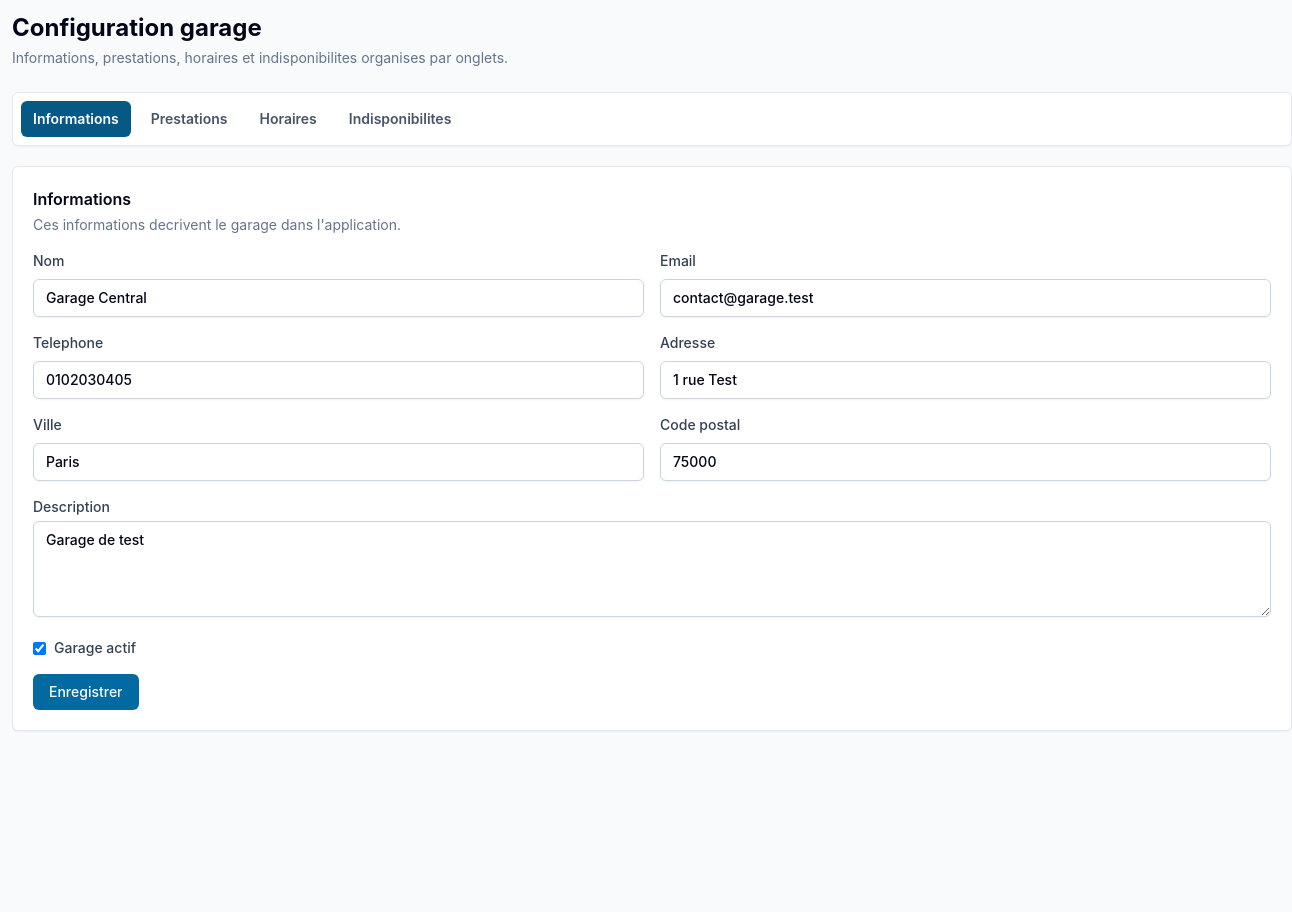
GarageSettingsPage › refuse la creation horaire si heureDebut est apres heureFin
Click the tab "Horaires" at (288, 119), box x1=248 y1=101 x2=329 y2=137
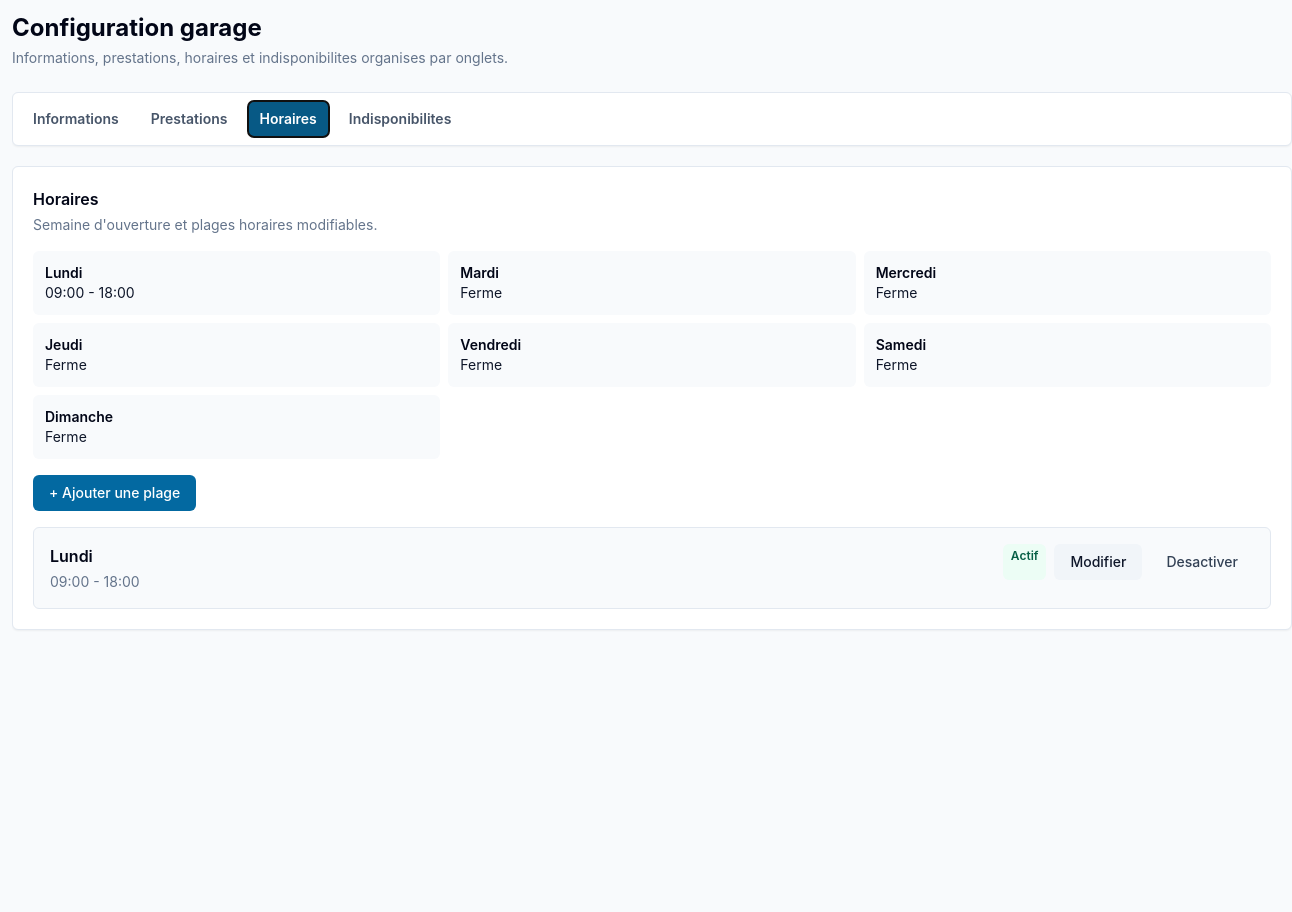
Click the button "+ Ajouter une plage" at (115, 493), box x1=33 y1=475 x2=196 y2=511
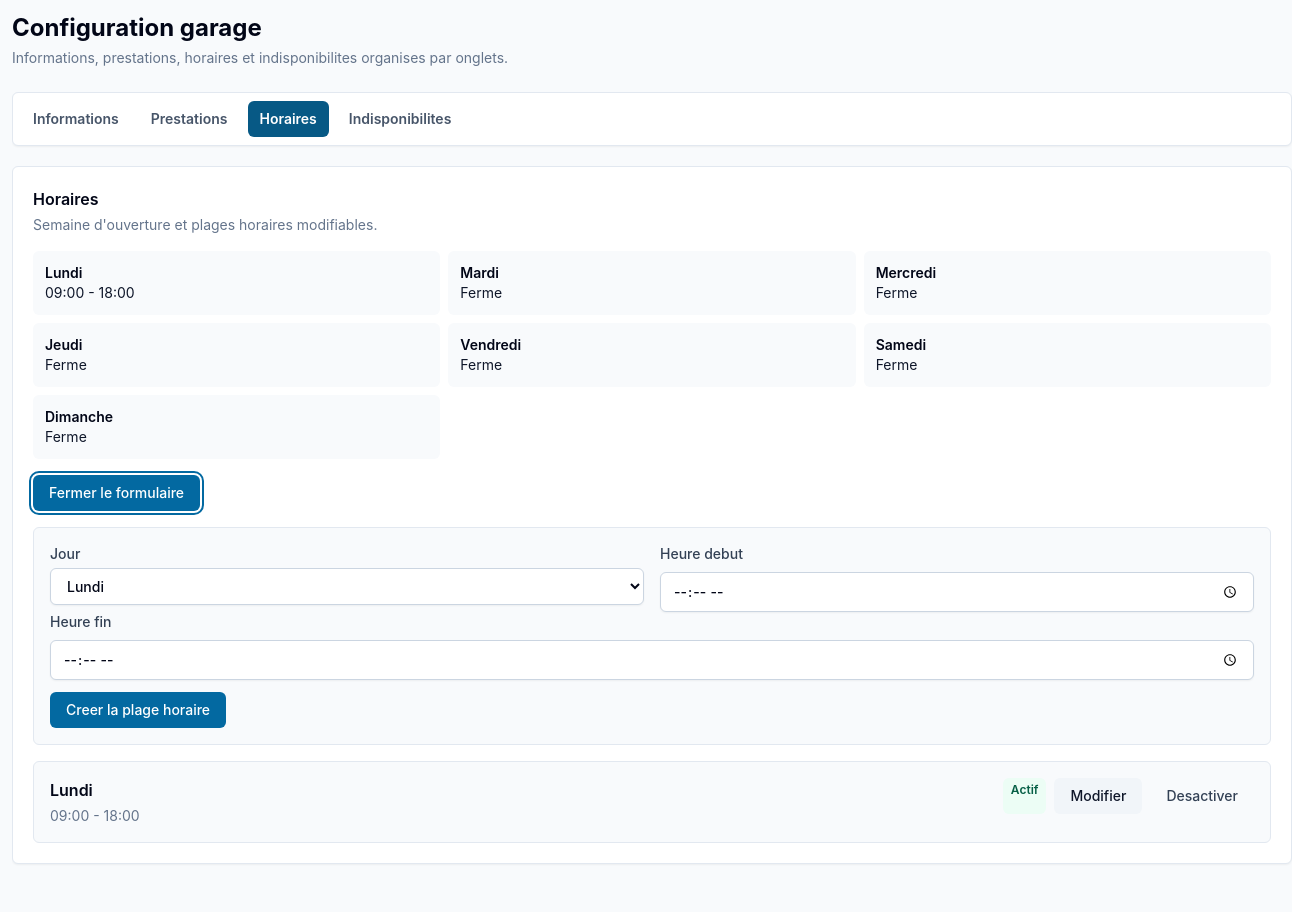
Type "18:00" into the time field labelled "Heure debut" at (957, 592), box x1=660 y1=572 x2=1254 y2=612
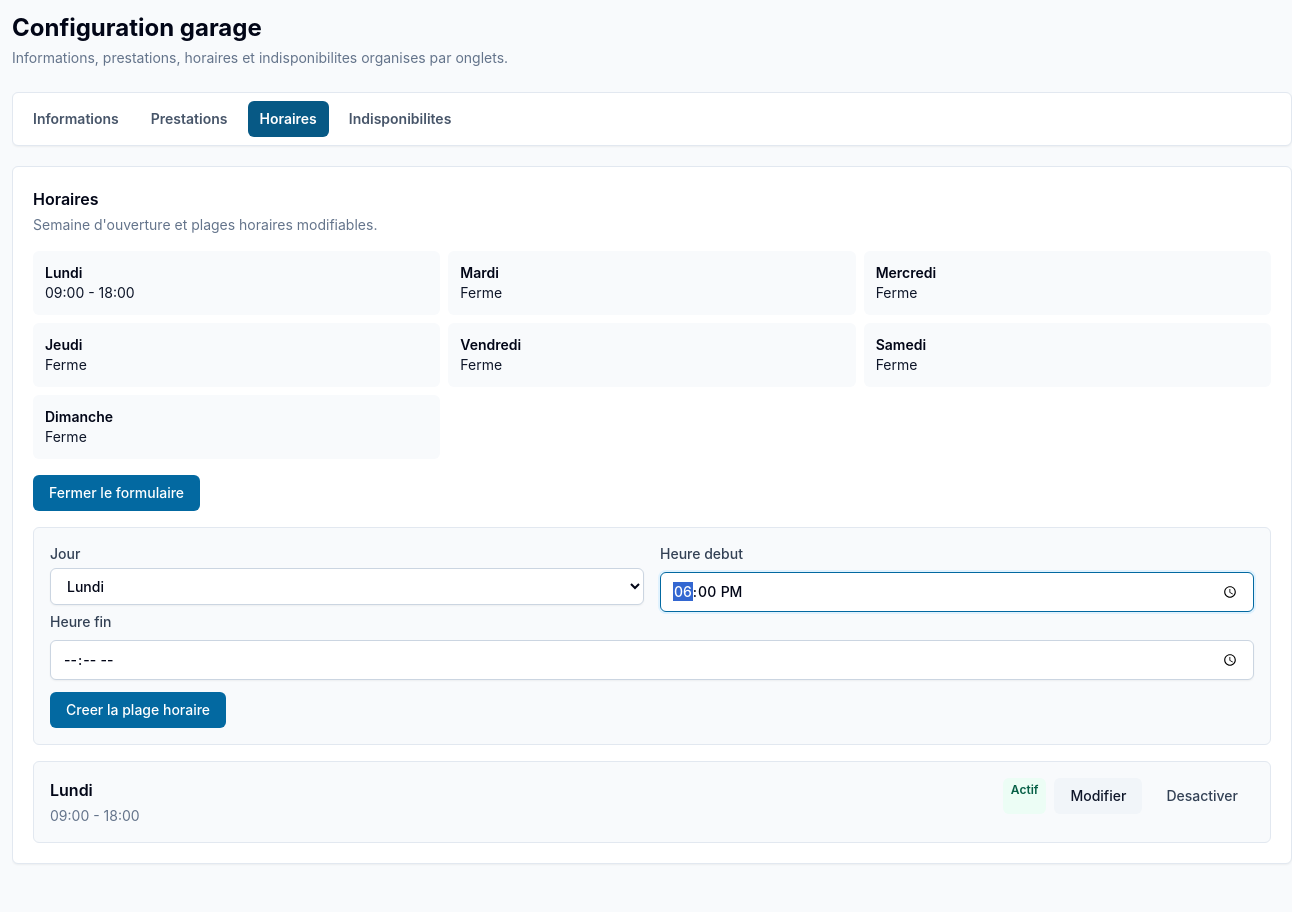
Type "09:00" into the time field labelled "Heure fin" at (652, 660), box x1=50 y1=640 x2=1254 y2=680
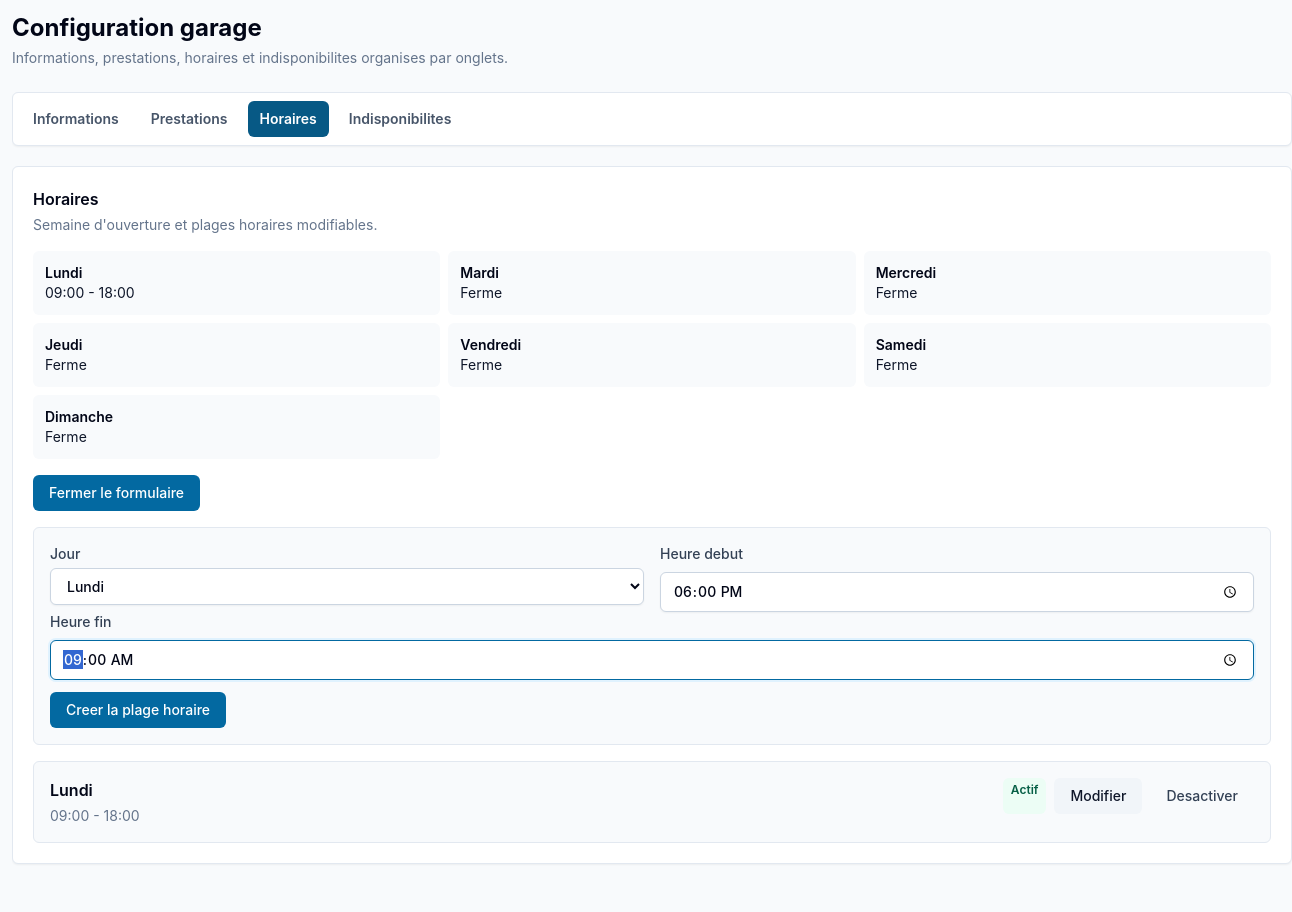
Click the button "Creer la plage horaire" at (138, 710), box x1=50 y1=692 x2=226 y2=728
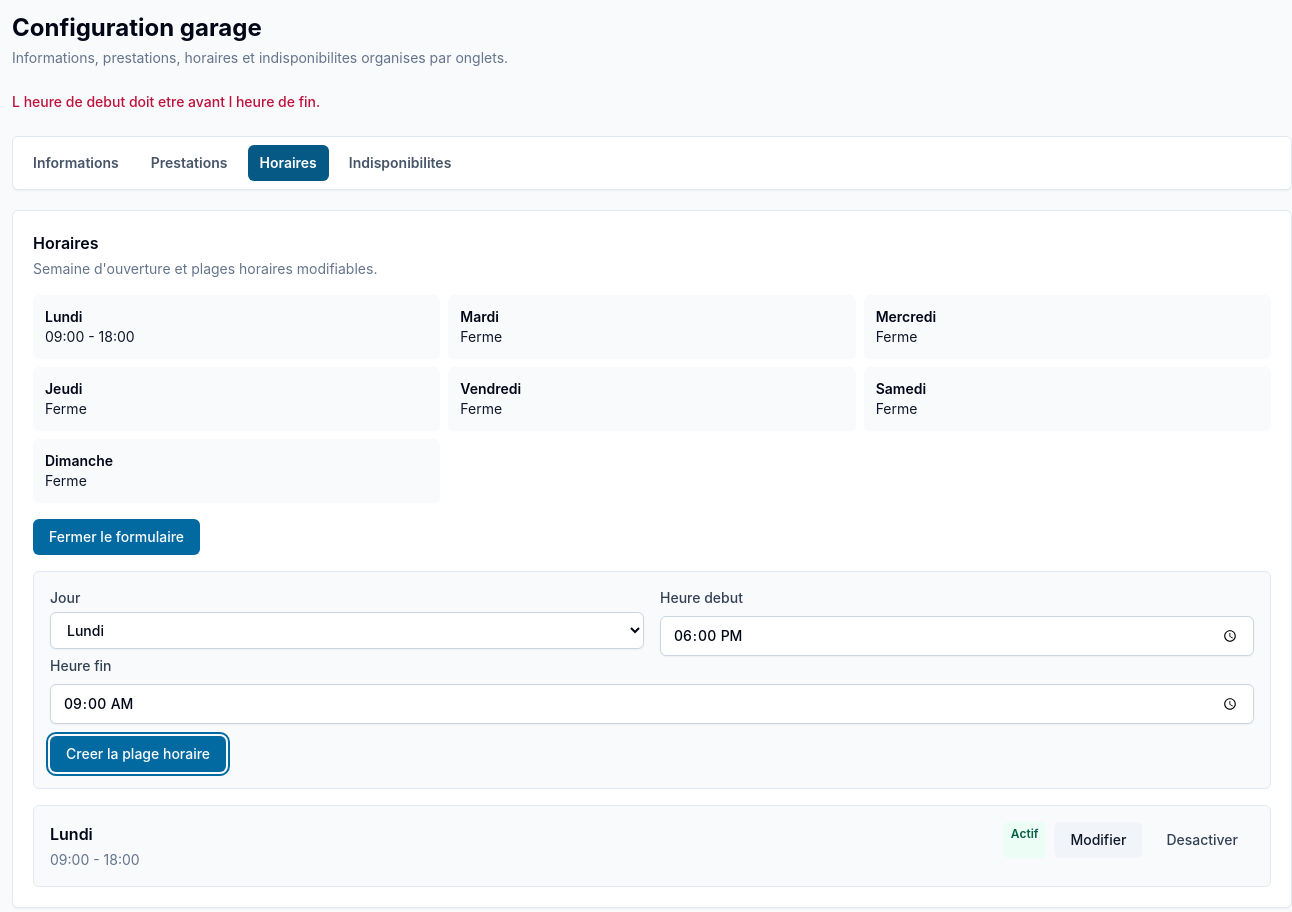
Now the text "L heure de debut doit etre avant l heure de fin." is shown, box x1=12 y1=93 x2=320 y2=110
